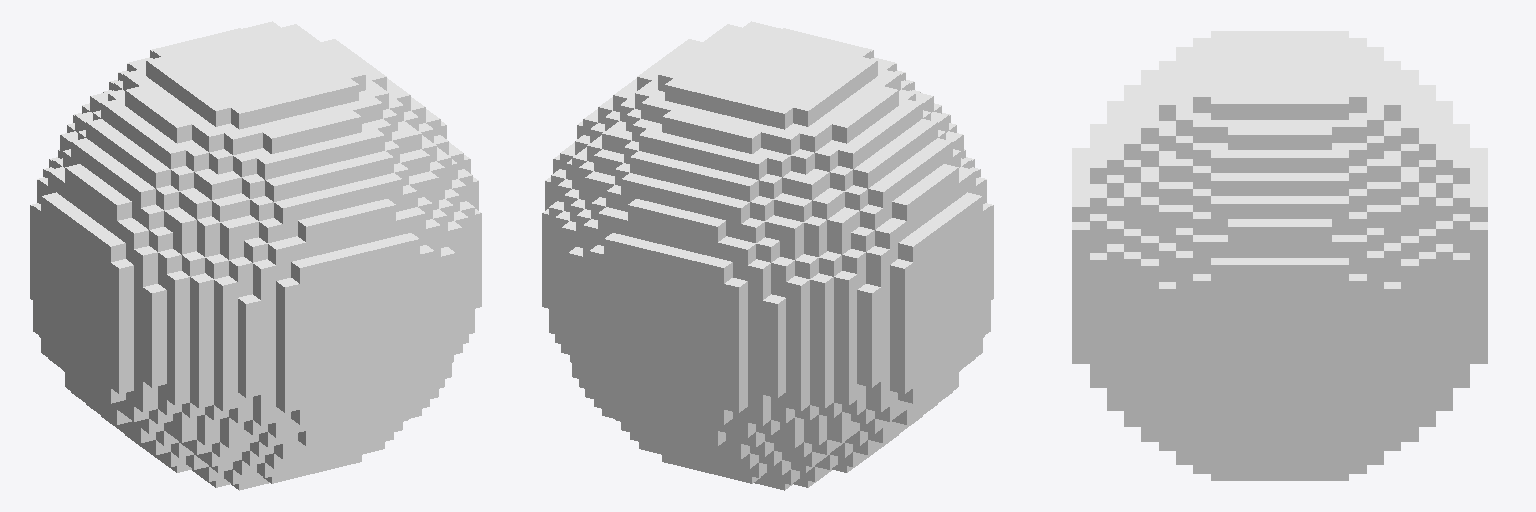
Rendered from asteroid2.obj.
3 views of the same model, side by side, from view 1: azimuth 30°, elevation 25°; view 2: azimuth 150°, elevation 25°; view 3: azimuth 270°, elevation 25° (orthographic).
Parts seen in each view (by area): view 1: object 1; view 2: object 1; view 3: object 1.
Part boxes in pixels (left/top/right/bottom): object 1: left=30, top=21, right=481, bottom=490; object 1: left=542, top=21, right=993, bottom=490; object 1: left=1072, top=31, right=1487, bottom=480.
Size of the model in its own units: 2.4 by 2.4 by 2.4.